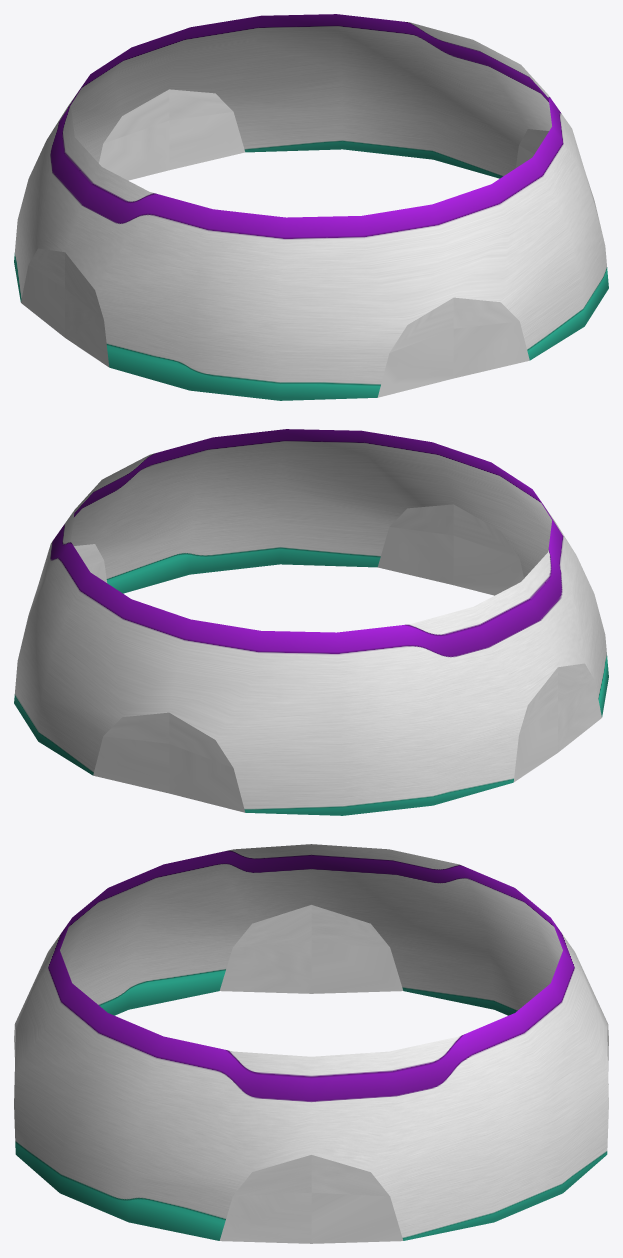
File: BossRoom.fbx
The picture shows the model from 3 angles, top to bottom: view 1: azimuth 30°, elevation 25°; view 2: azimuth 150°, elevation 25°; view 3: azimuth 270°, elevation 25°; orthographic projection. The views are drawn at different scales.
Visible parts, largest first — view 1: pSphere15; view 2: pSphere15; view 3: pSphere15.
Boxes of the visible parts, box(x1,y1,x2,y2) form: pSphere15: box(14, 14, 608, 400); pSphere15: box(14, 429, 608, 815); pSphere15: box(14, 844, 608, 1243).
Size of the model in its own units: 12.65 by 3.97 by 12.72.
